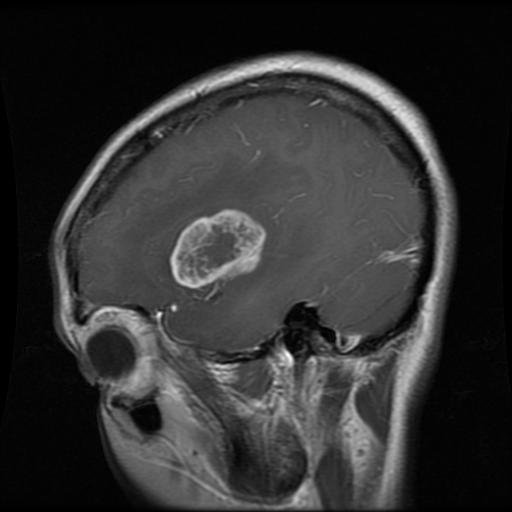Gliomia_tumour: (170, 208, 268, 287)
